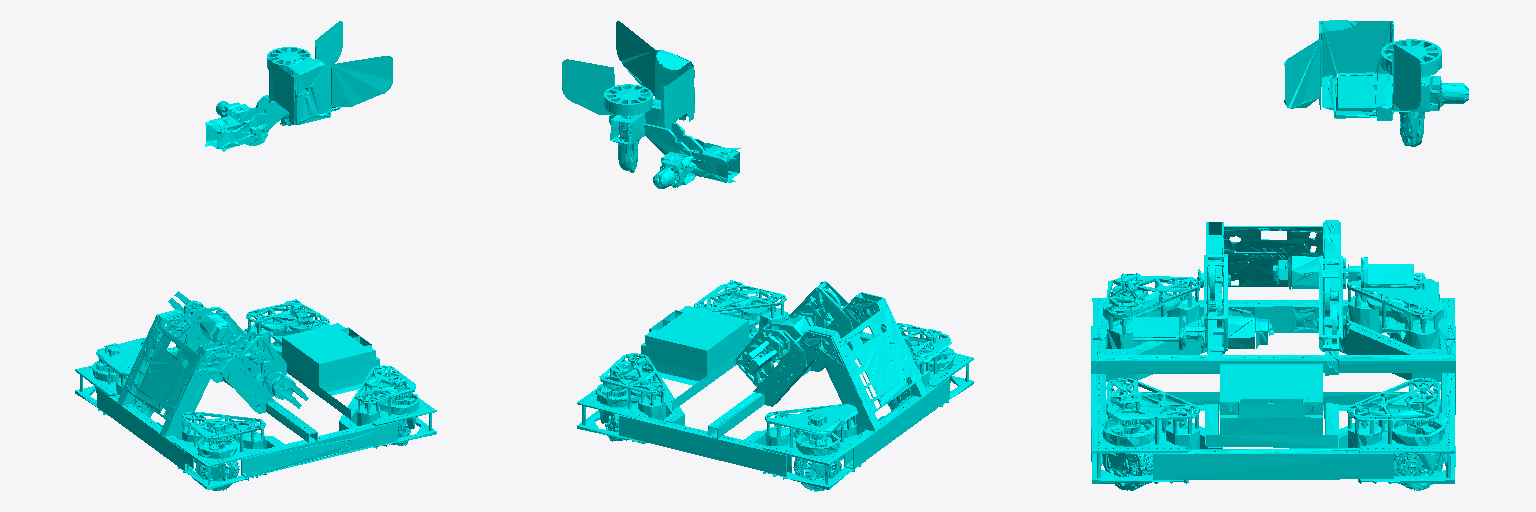
The robot description file, URDF, robot "robot_2025":
<?xml version="1.0"?>
<robot name="robot_2025">

	<link name="base_link">
		<visual>
			<origin xyz="0 0 0" rpy="0 0 0" />
			<geometry>
				<mesh filename="package://robot_2025_description/meshes/base_link.stl"/>
			</geometry>
			<material name="Cyan">
				<color rgba="0 1.0 1.0 1.0"/>
			</material>
      	</visual>
   
		<collision>
			<origin xyz="0 0 0" rpy="0 0 0"/>
			<geometry>
				<mesh filename="package://robot_2025_description/meshes/base_link.stl"/>
			</geometry>
		</collision>
	</link>

	<joint name="elevator_joint" type="prismatic">
		<parent link="base_link"/>
		<child link="elevator_link"/>
		<axis xyz="0 1 0"/>
		<limit lower="-2.0" upper="0.07" effort="100.0" velocity="1.0"/>
		<origin xyz="-0.146 0 0.261" rpy="0 0 0" />
	</joint>

	<link name="elevator_link">
		<visual>
			<origin xyz="0 0 0" rpy="0 0 0" />
			<geometry>
				<mesh filename="package://robot_2025_description/meshes/wrist.stl"/>
			</geometry>
			<material name="Cyan">
				<color rgba="0 1.0 1.0 1.0"/>
			</material>
      	</visual>
   
		<collision>
			<origin xyz="0 0 0" rpy="0 0 0"/>
			<geometry>
				<mesh filename="package://robot_2025_description/meshes/wrist.stl"/>
			</geometry>
		</collision>
	</link>
	<joint name="b2c1_test" type="fixed">
		<child link="c1"/>
		<parent link="base_link"/>
		<origin xyz="-0.22814 0.068 0.2617" rpy="-2.06123 -3.14957 1.5708"/>
	</joint>
	<joint name="b2c2_test" type="fixed">
		<child link="c2"/>
		<parent link="base_link"/>
		<origin xyz="-0.247 0.068 0.2261" rpy="0.0 -1.0664 0.0"/> <!-- TODO Update ME-->
	</joint>
	<link name="c1"/>
	<link name="c2"/>
	<link name="rs_cam_1_link"/>
	<joint name="b2realsense" type="fixed">
		<child link="rs_cam_1_link"/>
		<parent link="base_link"/>
		<origin xyz="0.32 0.068 0.17" rpy="0.0 0.122173 0.0"/>
	</joint>


</robot>

--- Render facts (derived) ---
3 views of the same robot in one strip: view 1: azimuth 30°, elevation 25°; view 2: azimuth 150°, elevation 25°; view 3: azimuth 270°, elevation 25° (orthographic).
Robot: robot_2025 — 5 links, 4 joints (1 prismatic, 3 fixed); root link base_link; default pose: every joint at zero.
Visible links, largest first — view 1: base_link, elevator_link; view 2: base_link, elevator_link; view 3: base_link, elevator_link.
Link boxes in pixels (x1,y1,x2,y2): base_link: (75,291,436,490); elevator_link: (205,21,392,151); base_link: (577,280,973,491); elevator_link: (562,21,740,188); base_link: (1091,220,1455,490); elevator_link: (1284,20,1468,146).
Size in the robot's own frame: 0.6788 by 0.6311 by 0.847 metres.
Meshes: 2 distinct files referenced, 2 mesh visuals loaded (2 binary STL).
